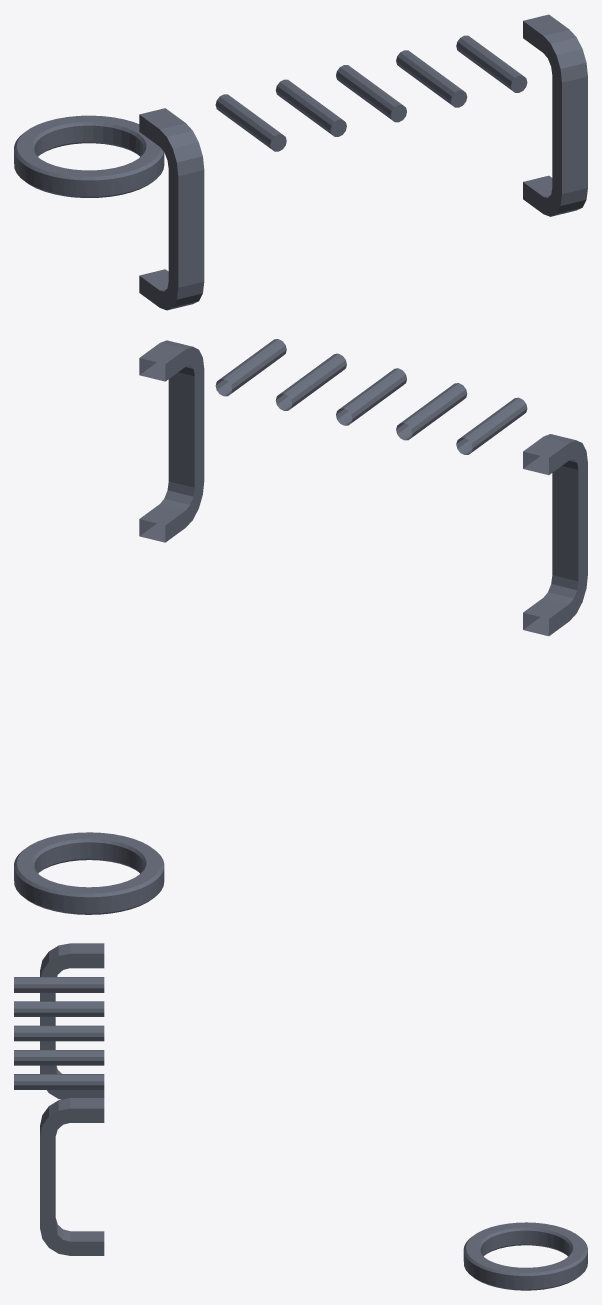
Rendered from solo_upper_leg_left_side_3.obj.
3 renders of one model, top to bottom at view 1: azimuth 30°, elevation 25°; view 2: azimuth 150°, elevation 25°; view 3: azimuth 270°, elevation 25°, orthographic. The views are drawn at different scales.
Bounding box in the file's own units: 0.0173 × 0.0117 × 0.0254.
